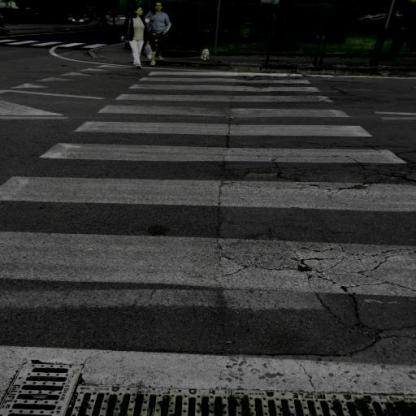crosswalk: (1, 169, 416, 305), (72, 104, 381, 146)
